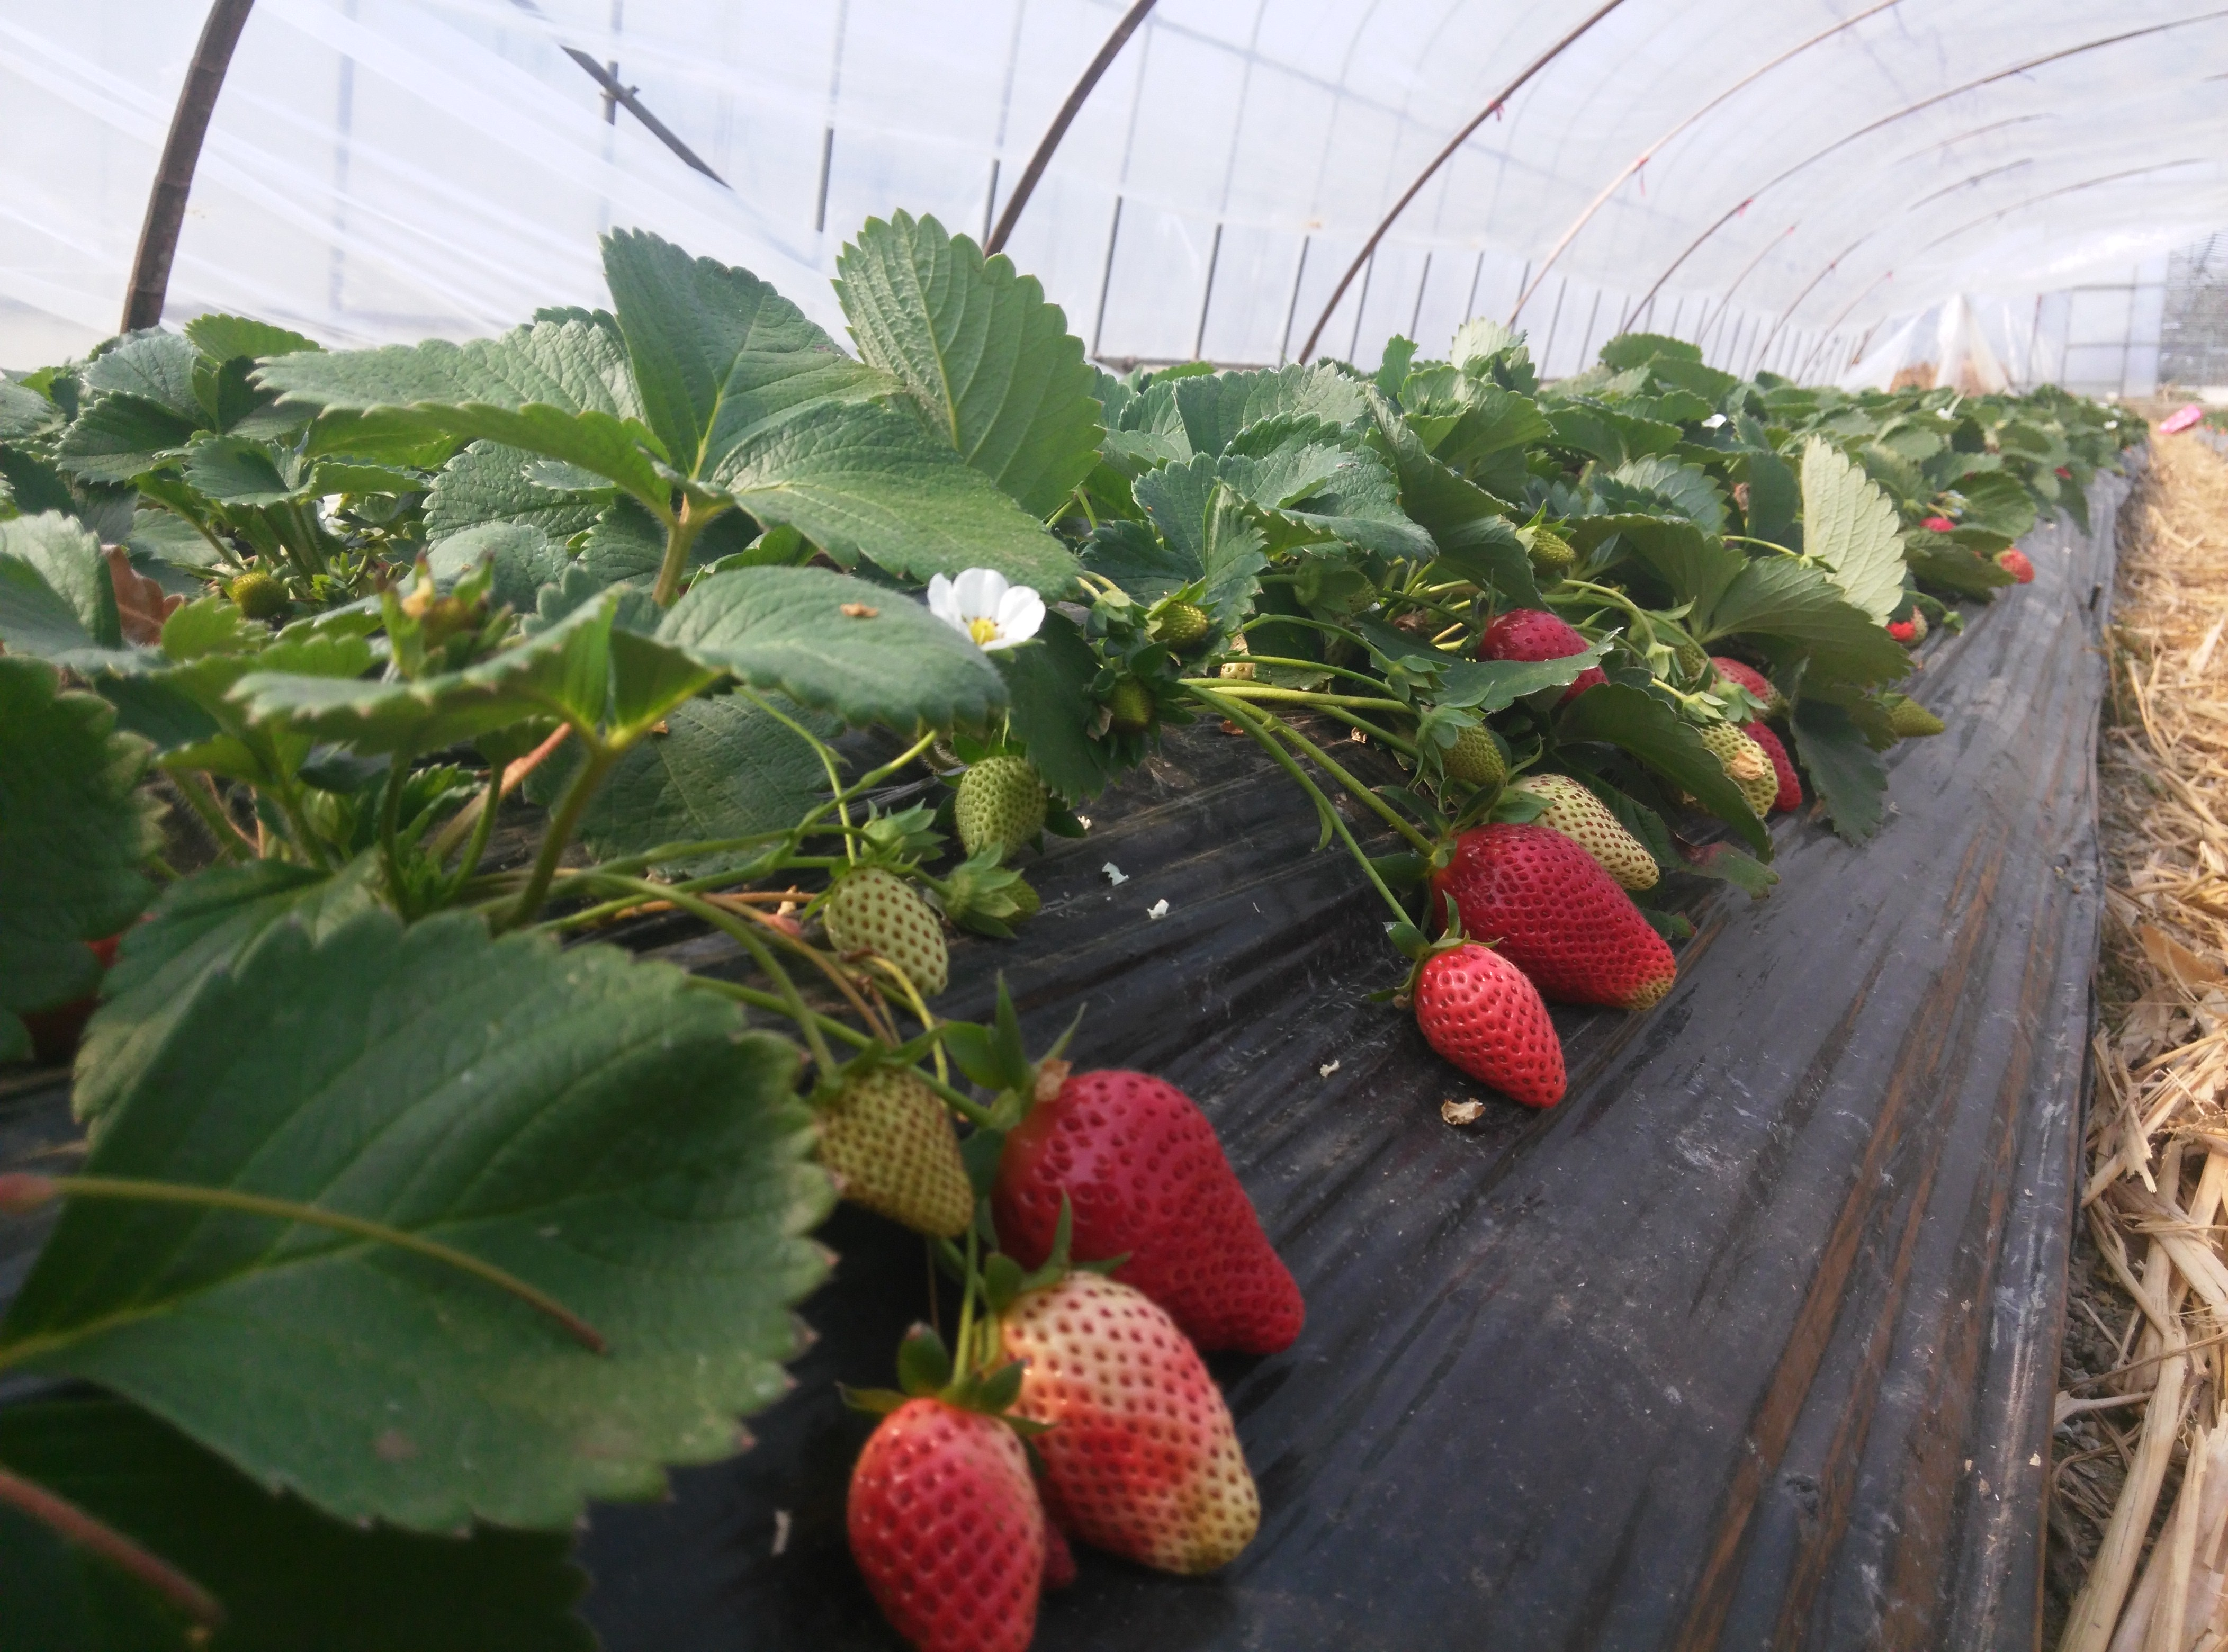StrawberryCone: (1001, 1043, 1319, 1354), (1414, 821, 1695, 1022), (1404, 939, 1576, 1100)
StrawberryIrremovable: (977, 1274, 1294, 1581), (838, 1385, 1071, 1610), (805, 1069, 980, 1239), (1510, 765, 1666, 892), (822, 861, 954, 1000), (1680, 715, 1787, 838), (951, 751, 1060, 868), (1414, 705, 1510, 788), (967, 868, 1055, 932), (1140, 597, 1216, 656), (1978, 536, 2039, 590), (1105, 675, 1157, 727)
StrawberryOther: (1475, 597, 1615, 698)
StrawberryRemovable: (994, 1036, 1329, 1354), (1421, 826, 1702, 1024), (1409, 942, 1574, 1100), (1480, 600, 1610, 696)
